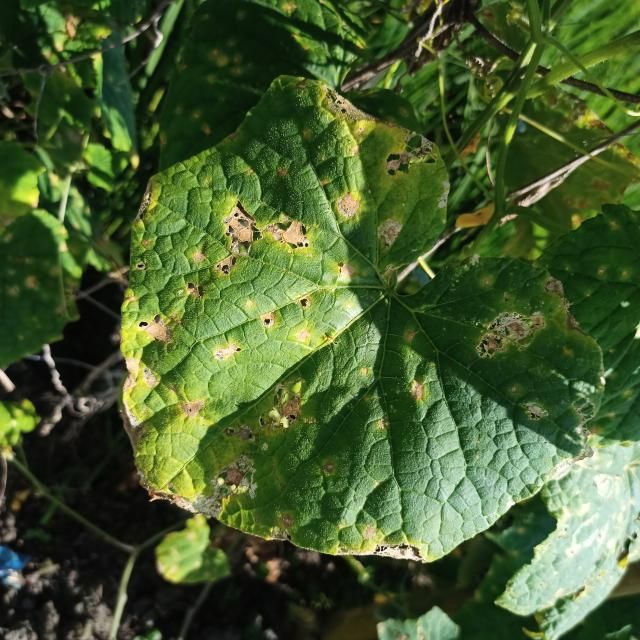disease_cucumber: (128, 85, 571, 550)
